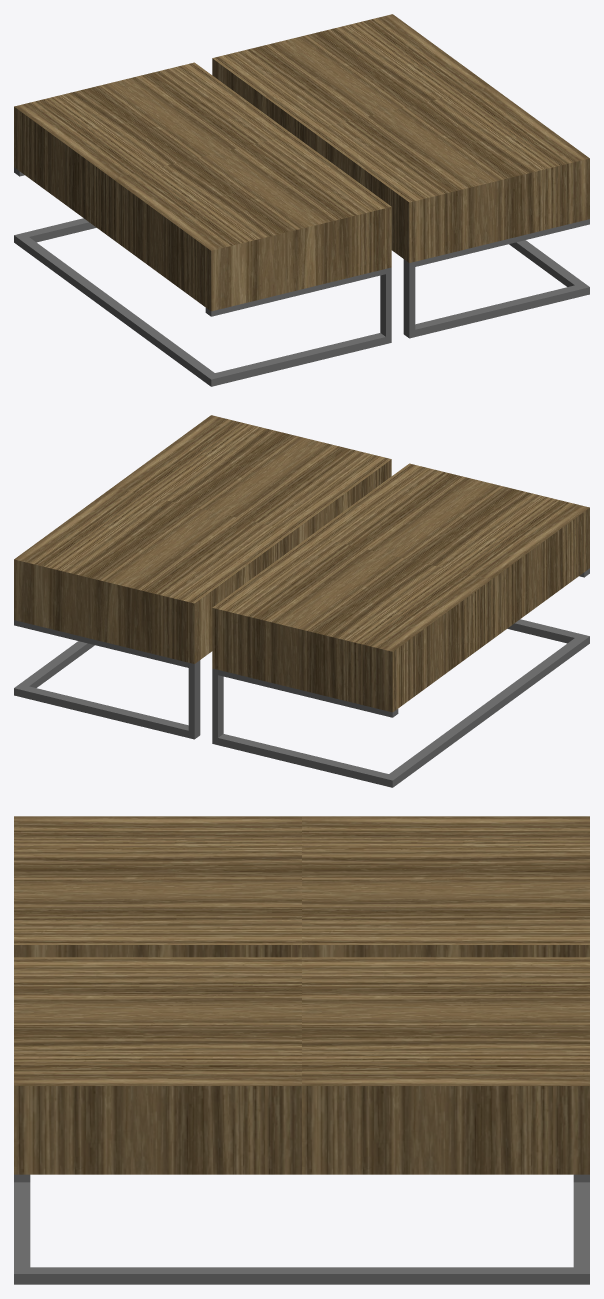
Rendered from table.dae.
3 views of the same model, one above another, from view 1: azimuth 30°, elevation 25°; view 2: azimuth 150°, elevation 25°; view 3: azimuth 270°, elevation 25° (orthographic). The views are drawn at different scales.
Visible parts, largest first — view 1: Group6, Group2, Group4, Group3, Group5, Group1; view 2: Group4, Group3, Group6, Group2, Group5, Group1; view 3: Group2, Group3, Group4, Group6, Group1.
Part boxes in pixels (x1=…): Group6: x1=112, y1=134, x2=391, y2=311; Group2: x1=310, y1=86, x2=589, y2=262; Group4: x1=14, y1=62, x2=292, y2=238; Group3: x1=212, y1=14, x2=490, y2=146; Group5: x1=14, y1=167, x2=391, y2=386; Group1: x1=403, y1=219, x2=589, y2=338; Group4: x1=212, y1=535, x2=491, y2=712; Group3: x1=14, y1=487, x2=293, y2=663; Group6: x1=311, y1=463, x2=589, y2=639; Group2: x1=113, y1=415, x2=391, y2=547; Group5: x1=212, y1=568, x2=589, y2=787; Group1: x1=14, y1=620, x2=200, y2=739; Group2: x1=14, y1=957, x2=301, y2=1174; Group3: x1=302, y1=957, x2=589, y2=1174; Group4: x1=302, y1=816, x2=589, y2=957; Group6: x1=14, y1=816, x2=301, y2=957; Group1: x1=14, y1=1174, x2=589, y2=1284.
Bounding box in the file's own units: 144 × 130 × 49.58.
